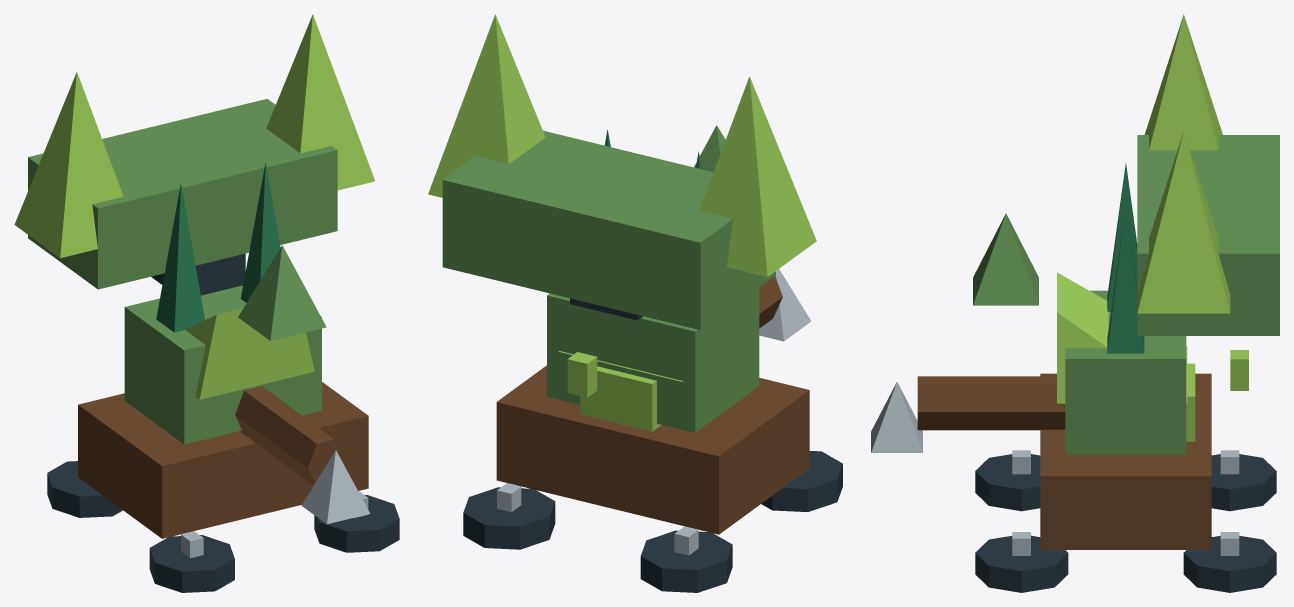
The model's file is legendary-land.obj.
The picture shows the model from 3 angles, left to right: view 1: azimuth 30°, elevation 25°; view 2: azimuth 150°, elevation 25°; view 3: azimuth 270°, elevation 25°; orthographic projection. The views are drawn at different scales.
Visible parts, largest first — view 1: siege; view 2: siege; view 3: siege.
Part boxes in pixels (bbox=[...]): siege: bbox=[14, 14, 399, 592]; siege: bbox=[428, 14, 842, 592]; siege: bbox=[871, 14, 1279, 592].
Size of the model in its own units: 1.79 by 2.46 by 1.98.
